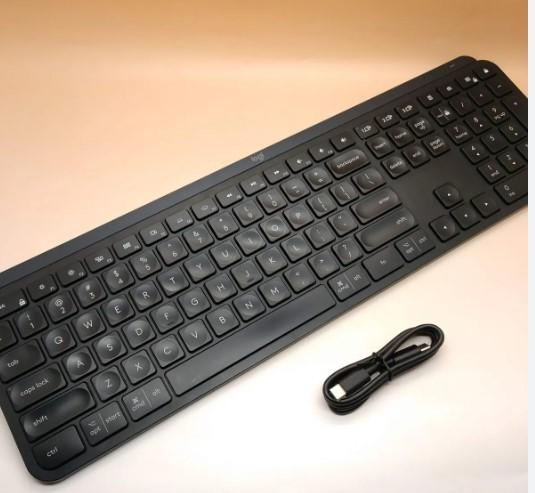Keyboard: (0, 56, 529, 487)
